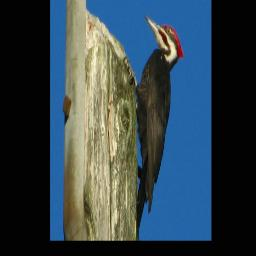Woodpecker: (126, 15, 187, 237)
